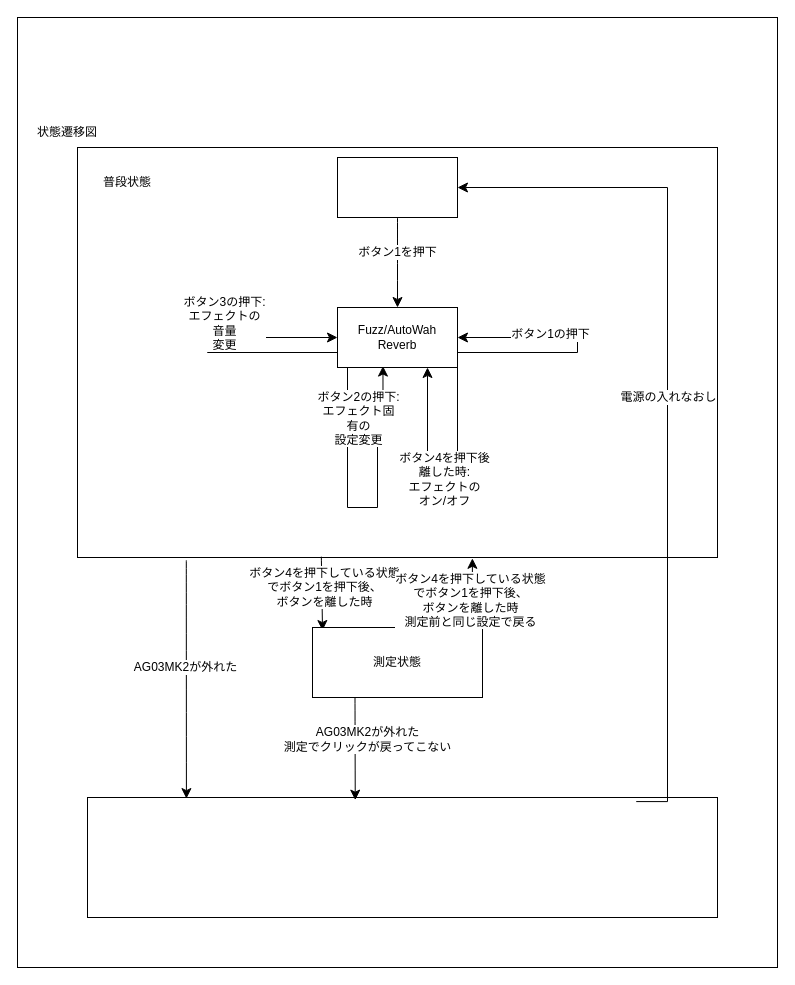
This 795x985 diagram has some shape labels left out. Here are the shapes that lost their labels. From the top down, the centre of each, then its label:
pixel 397 187: 初期状態:Bypass
pixel 402 857: 異常状態 操作を受け付けない
